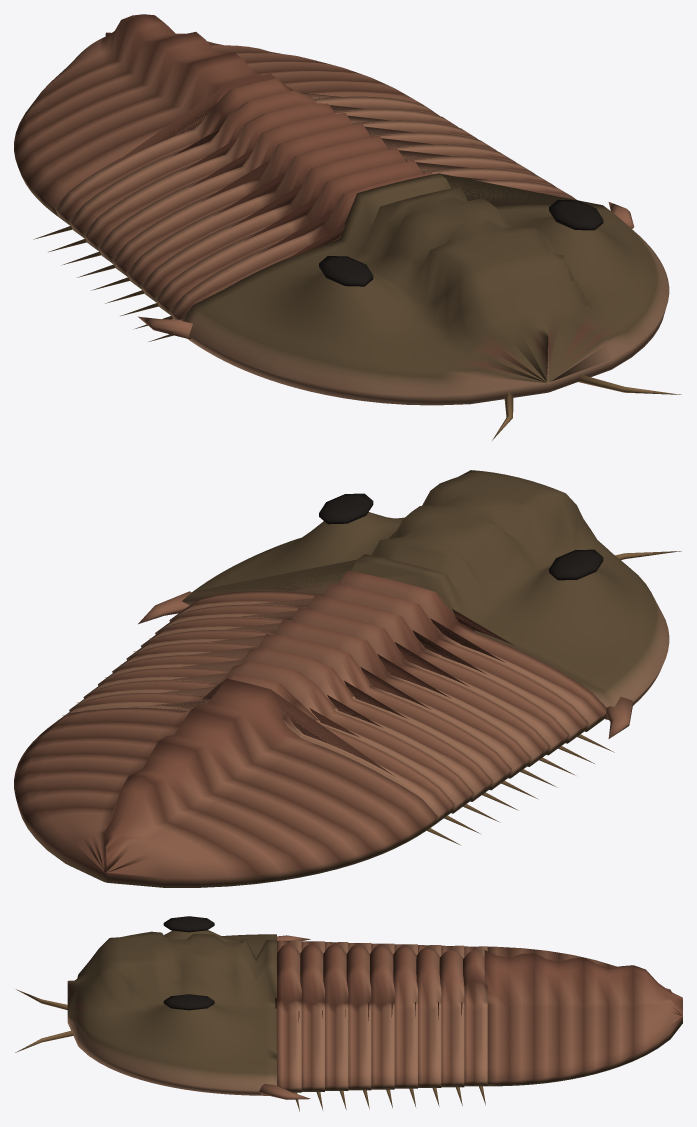
File: Phillipsia.fbx
3 renders of one model, top to bottom at view 1: azimuth 30°, elevation 25°; view 2: azimuth 150°, elevation 25°; view 3: azimuth 270°, elevation 25°, orthographic. The views are drawn at different scales.
Visible parts, largest first — view 1: Phillipsia; view 2: Phillipsia; view 3: Phillipsia.
Part boxes in pixels (bbox=[...]): Phillipsia: bbox=[14, 14, 681, 440]; Phillipsia: bbox=[14, 470, 681, 887]; Phillipsia: bbox=[15, 916, 682, 1111].
Bounding box in the file's own units: 0.9949 × 0.25 × 1.74.
